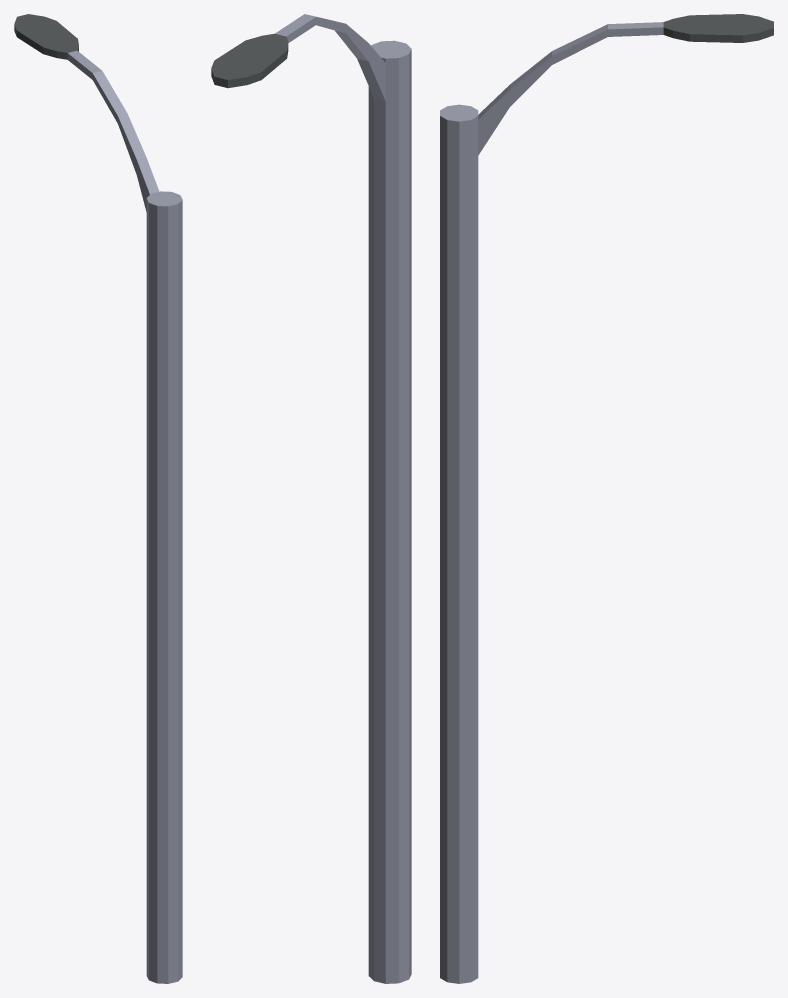
Rendered from Model_Lampa2.fbx.
3 views of the same model, side by side, from view 1: azimuth 30°, elevation 25°; view 2: azimuth 150°, elevation 25°; view 3: azimuth 270°, elevation 25° (orthographic). The views are drawn at different scales.
Parts seen in each view (by area): view 1: Cylinder; view 2: Cylinder; view 3: Cylinder.
Part boxes in pixels (box(x1,y1,x2,y2)): Cylinder: box(14, 14, 182, 983); Cylinder: box(211, 14, 411, 983); Cylinder: box(440, 14, 773, 983).
Bounding box in the file's own units: 246 × 772 × 37.36.
